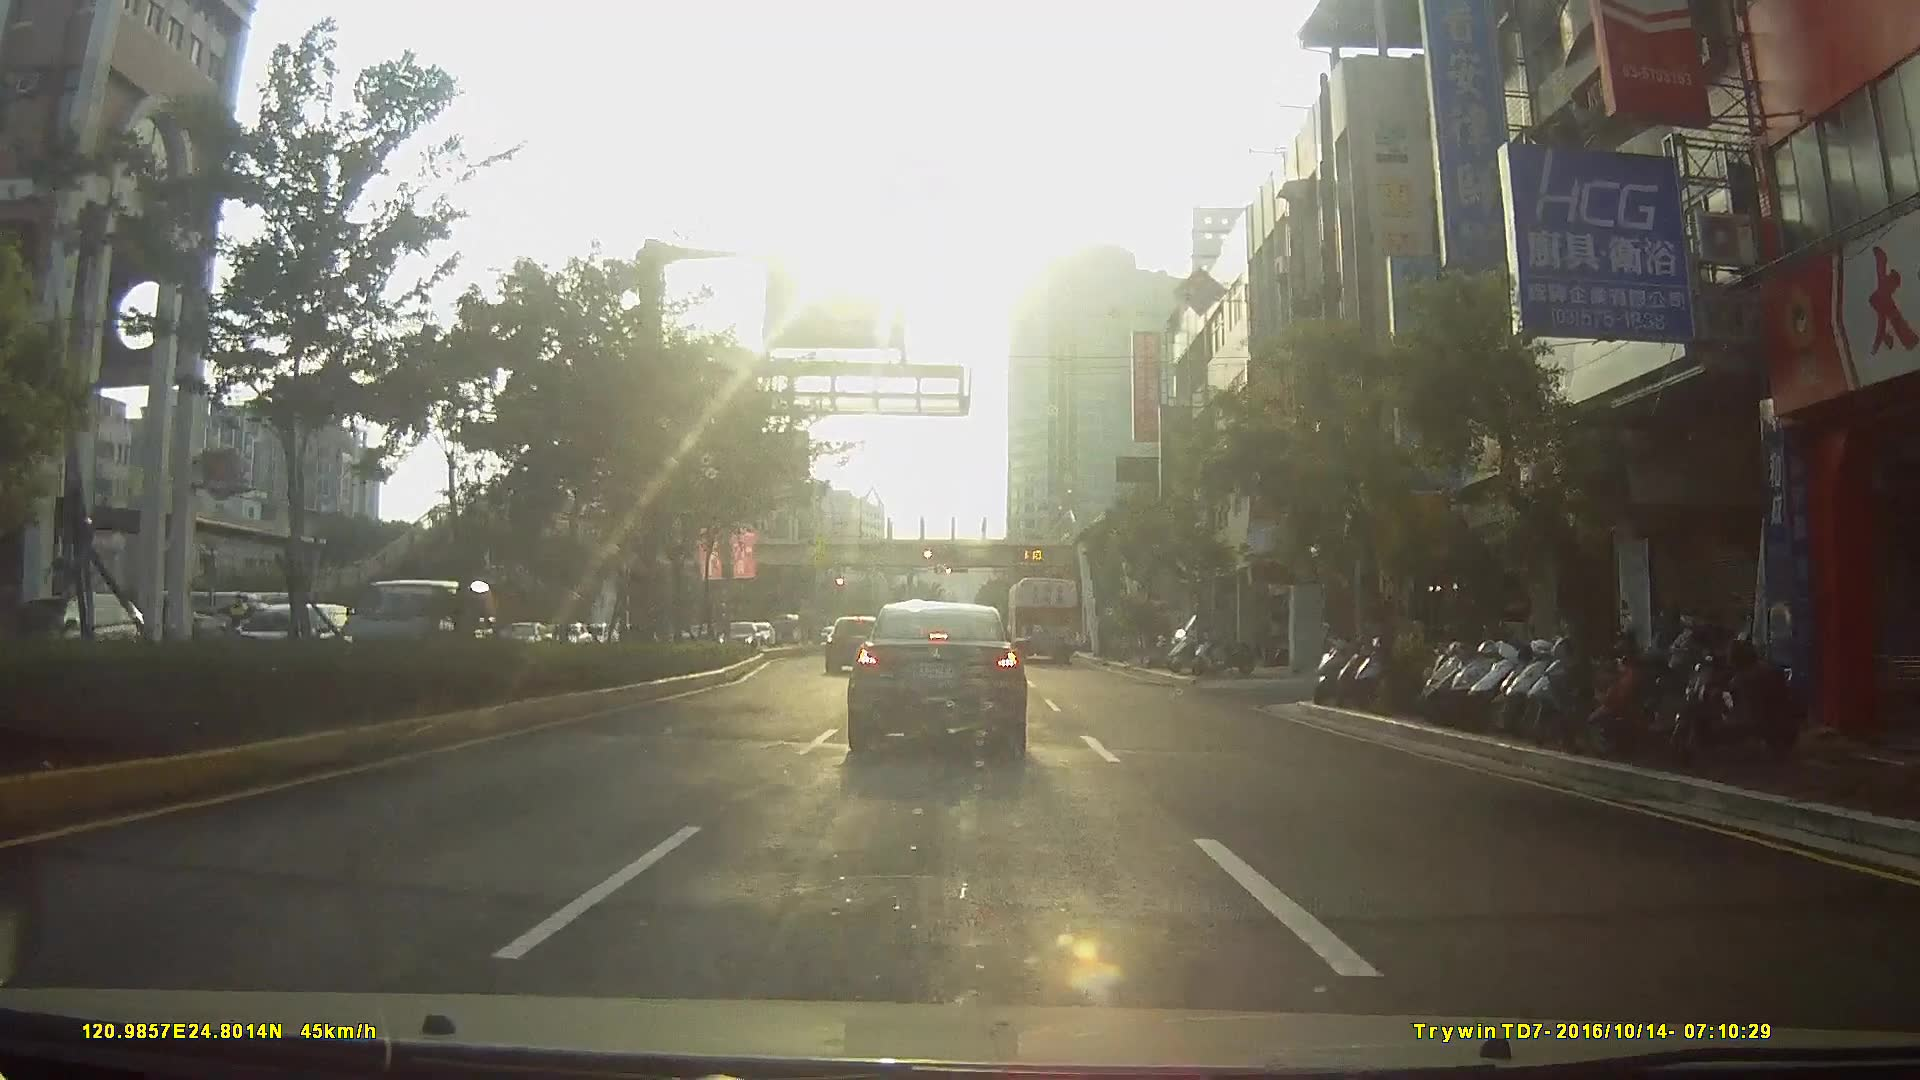vehicle: (845, 597, 1027, 760), (330, 578, 495, 690), (8, 589, 140, 669), (1005, 574, 1081, 665), (822, 613, 887, 675), (713, 621, 758, 658)
